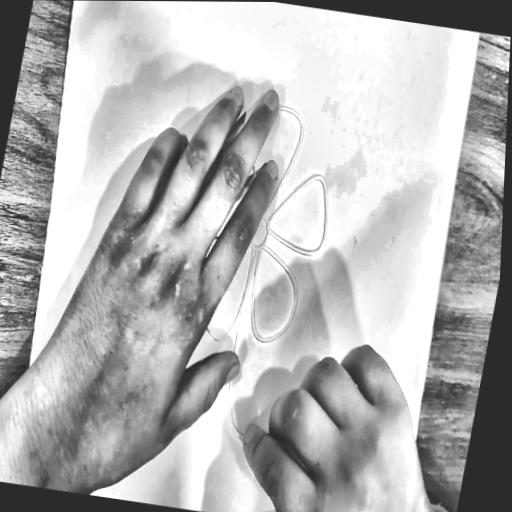bottom_right: (408, 454, 420, 470)
flower: (148, 75, 351, 498)
